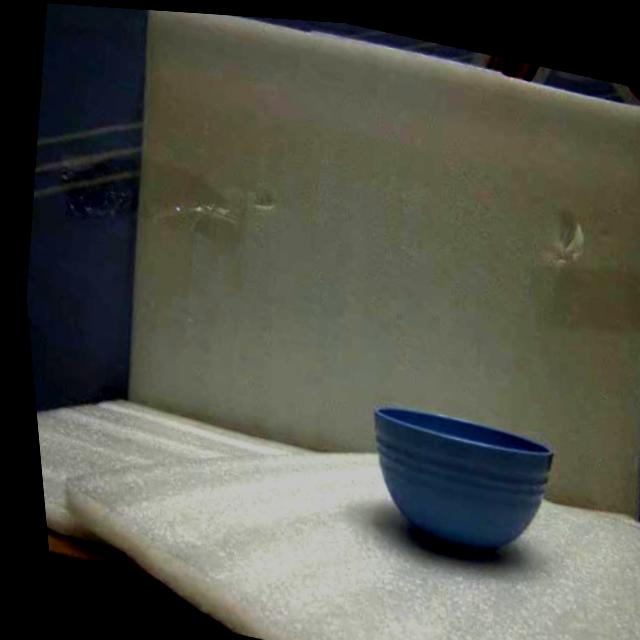Bowl: (374, 408, 551, 554)
